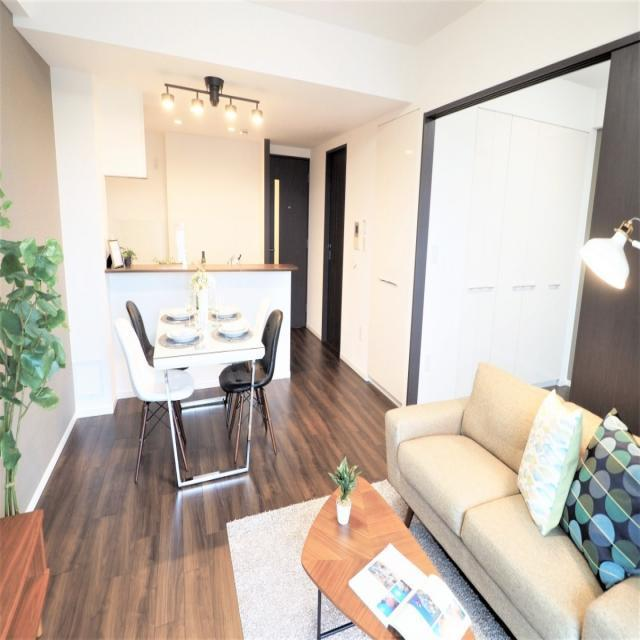couch: (385, 361, 639, 639)
